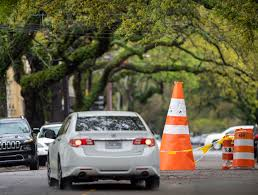car: (47, 111, 162, 189), (1, 116, 38, 170), (36, 123, 64, 164)
cone: (158, 81, 196, 172), (234, 129, 255, 168), (222, 136, 235, 169)
